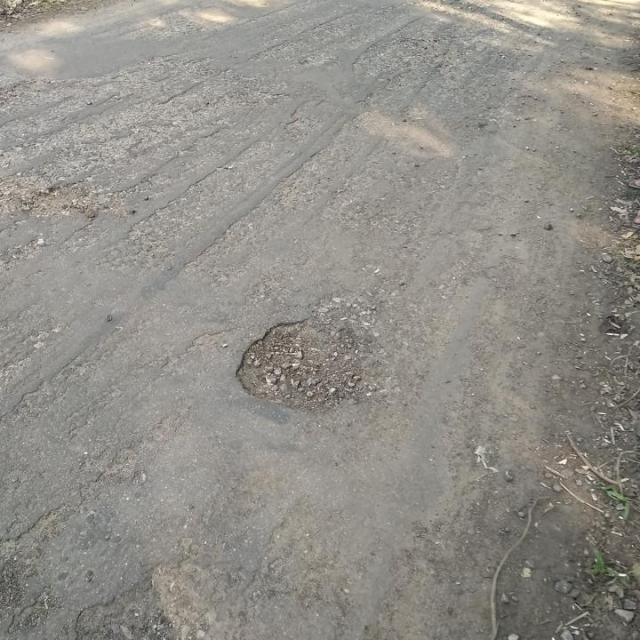Pothole: (230, 283, 372, 424)
